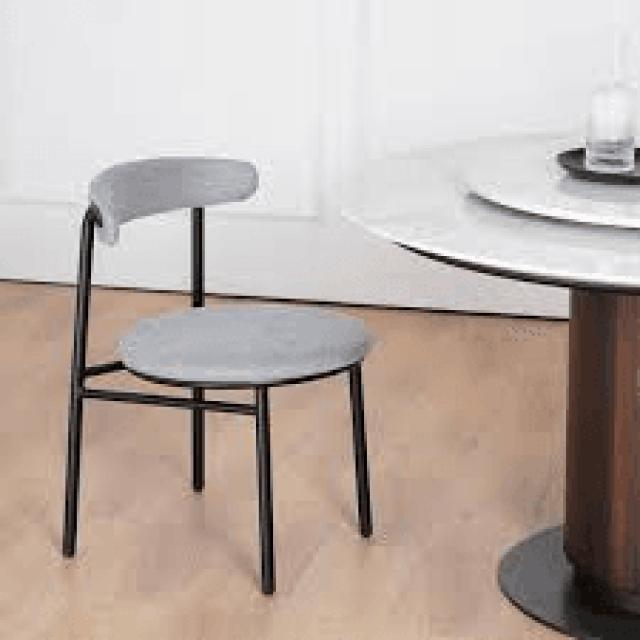chair: (58, 150, 377, 598), (90, 154, 376, 390)
